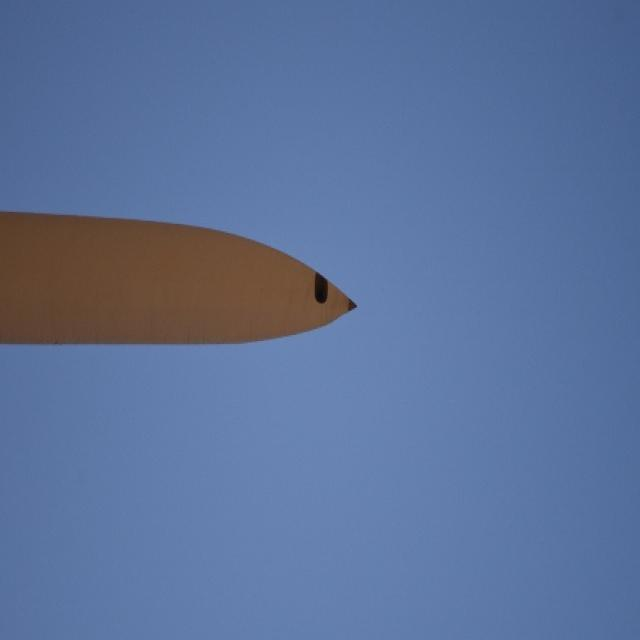Burn Mark: (312, 268, 331, 310)
